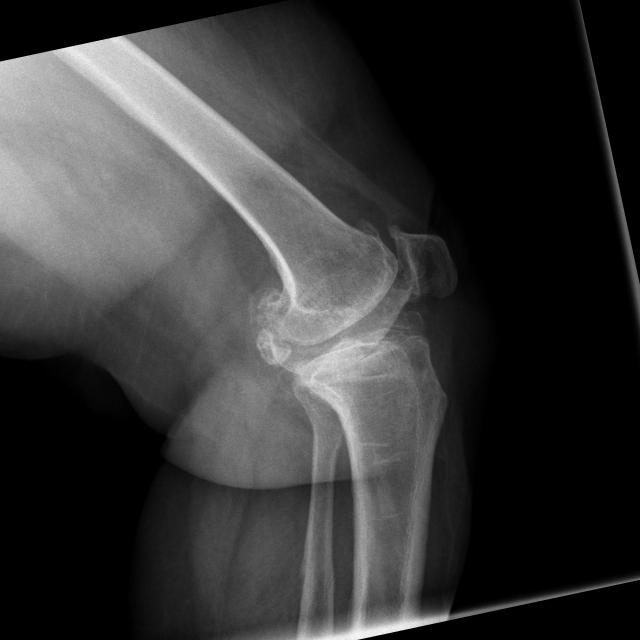Knee: (232, 208, 482, 434)
